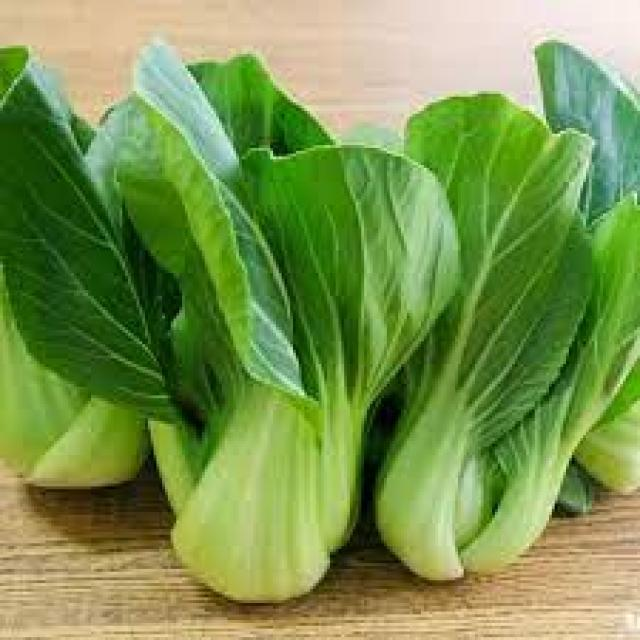bokchoy: (82, 52, 456, 617)
